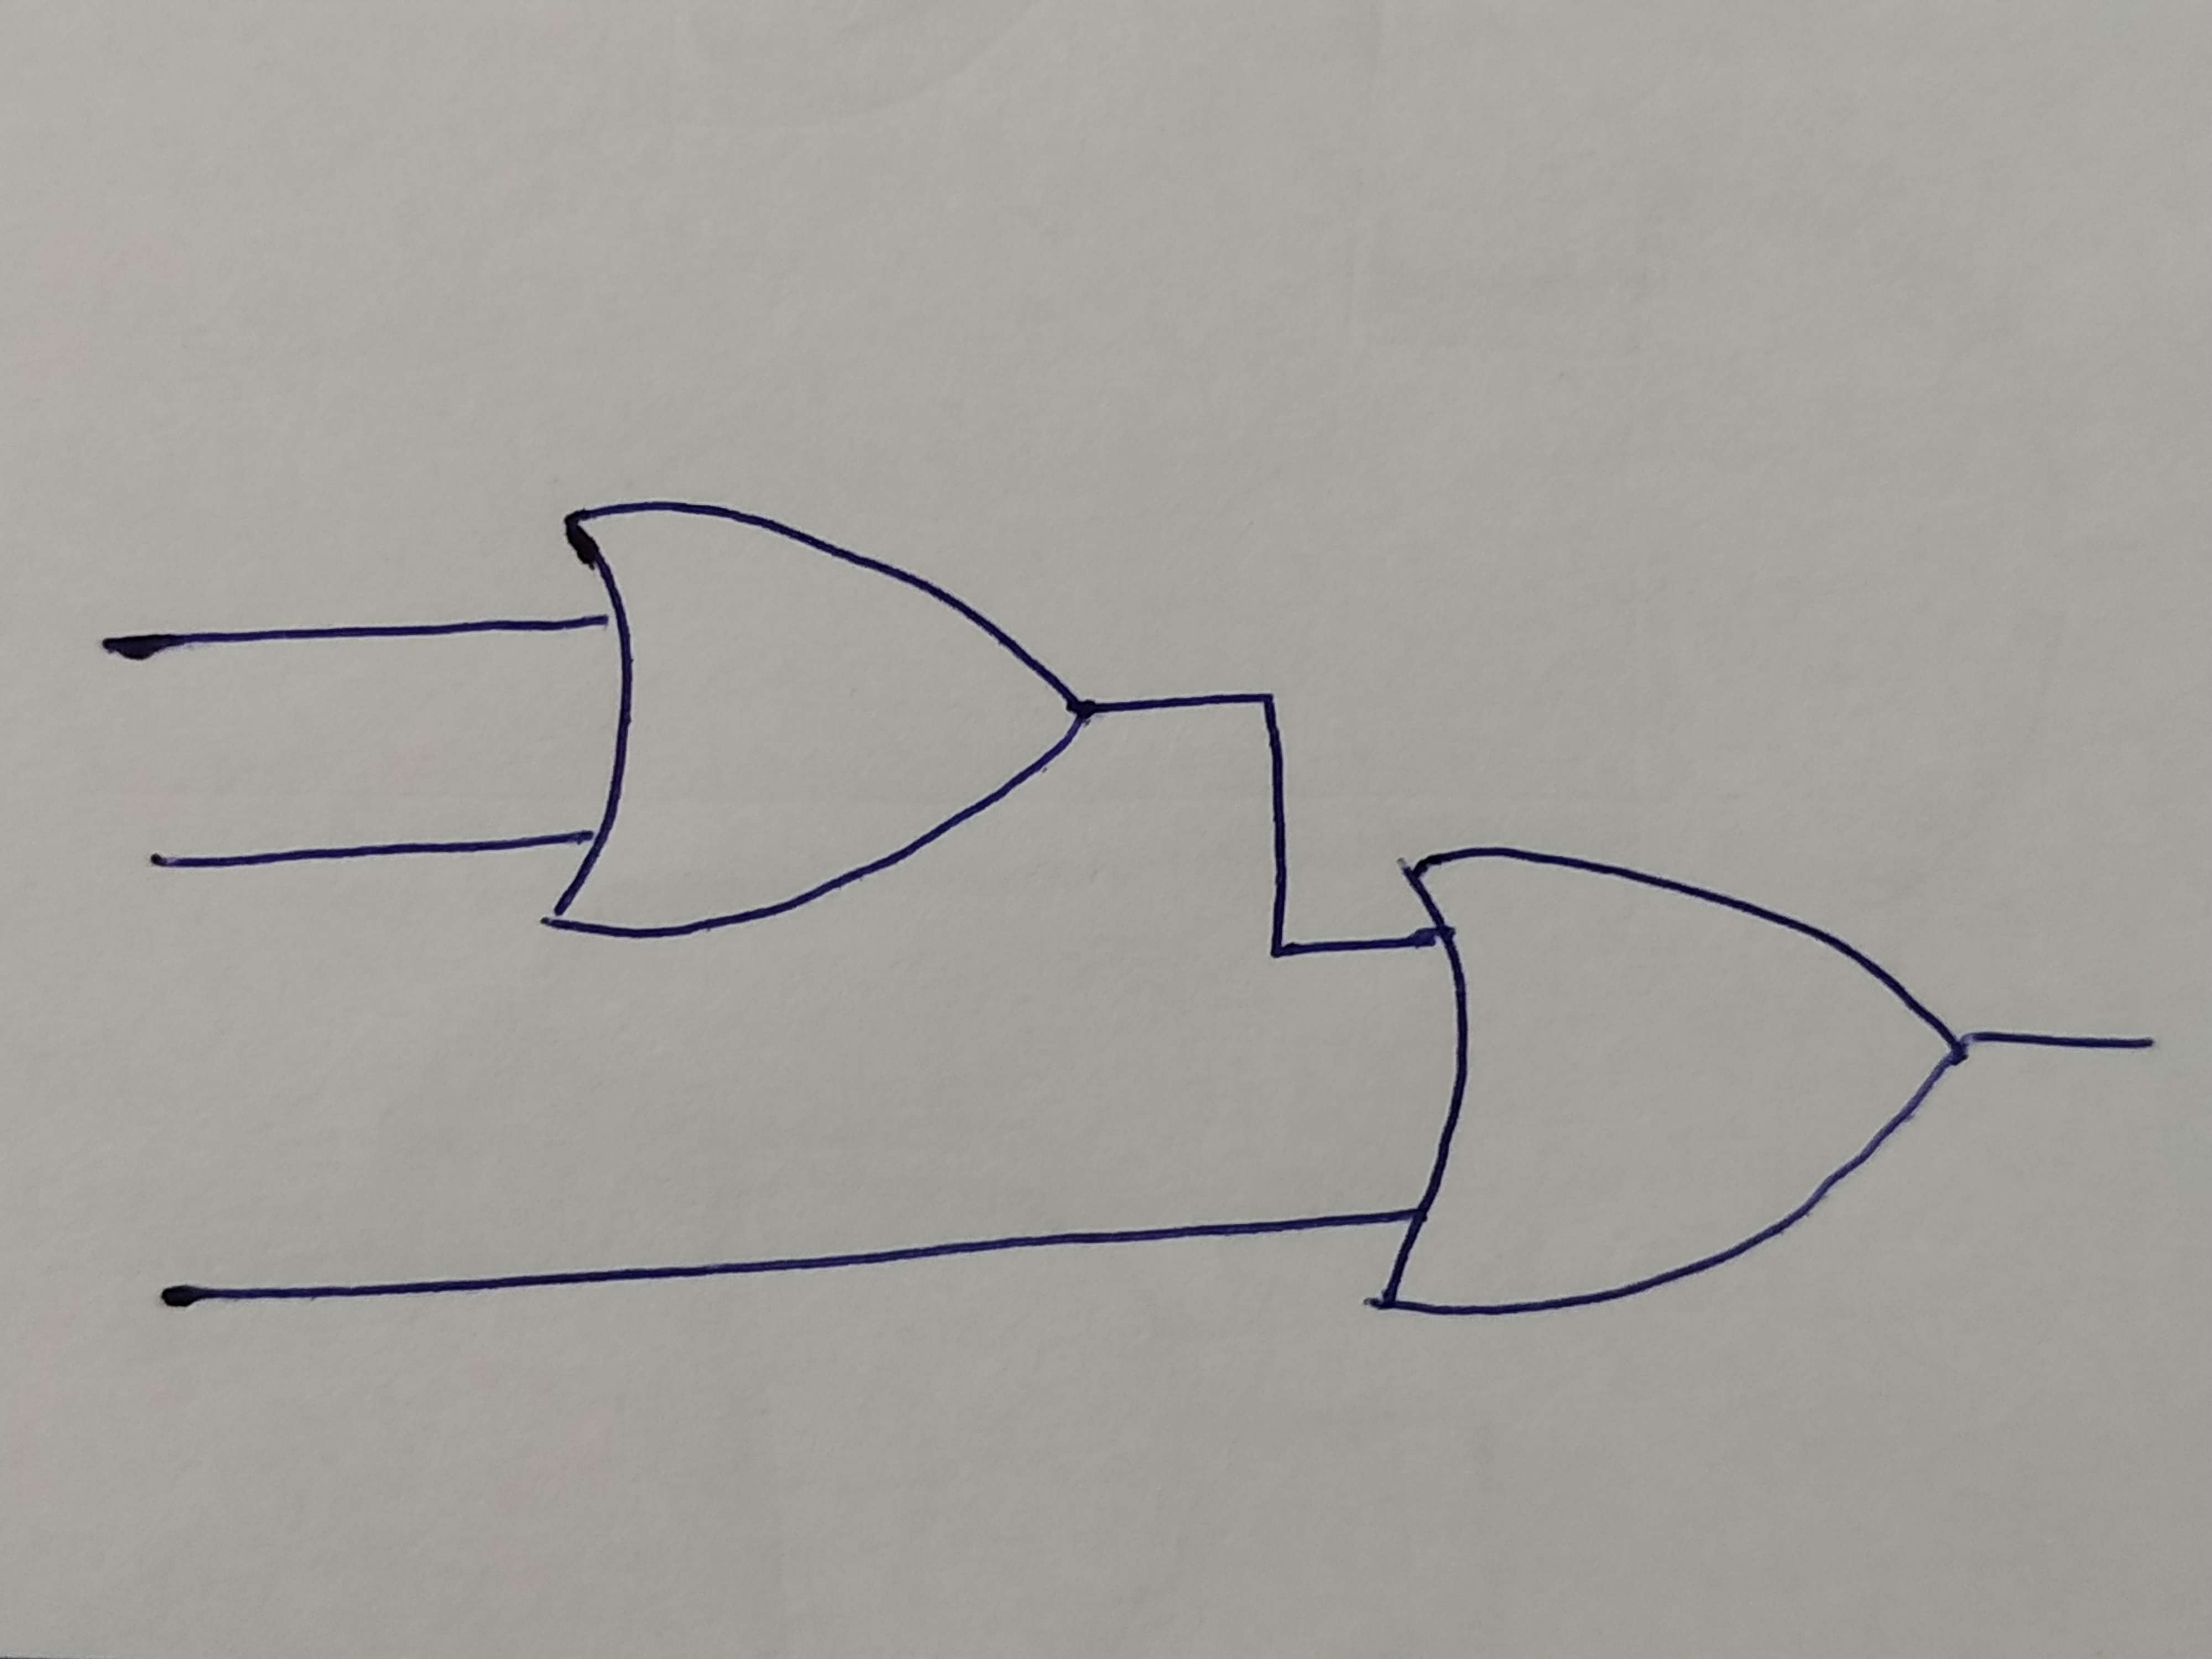or: (1364, 852, 1959, 1312), (543, 507, 1099, 936)
